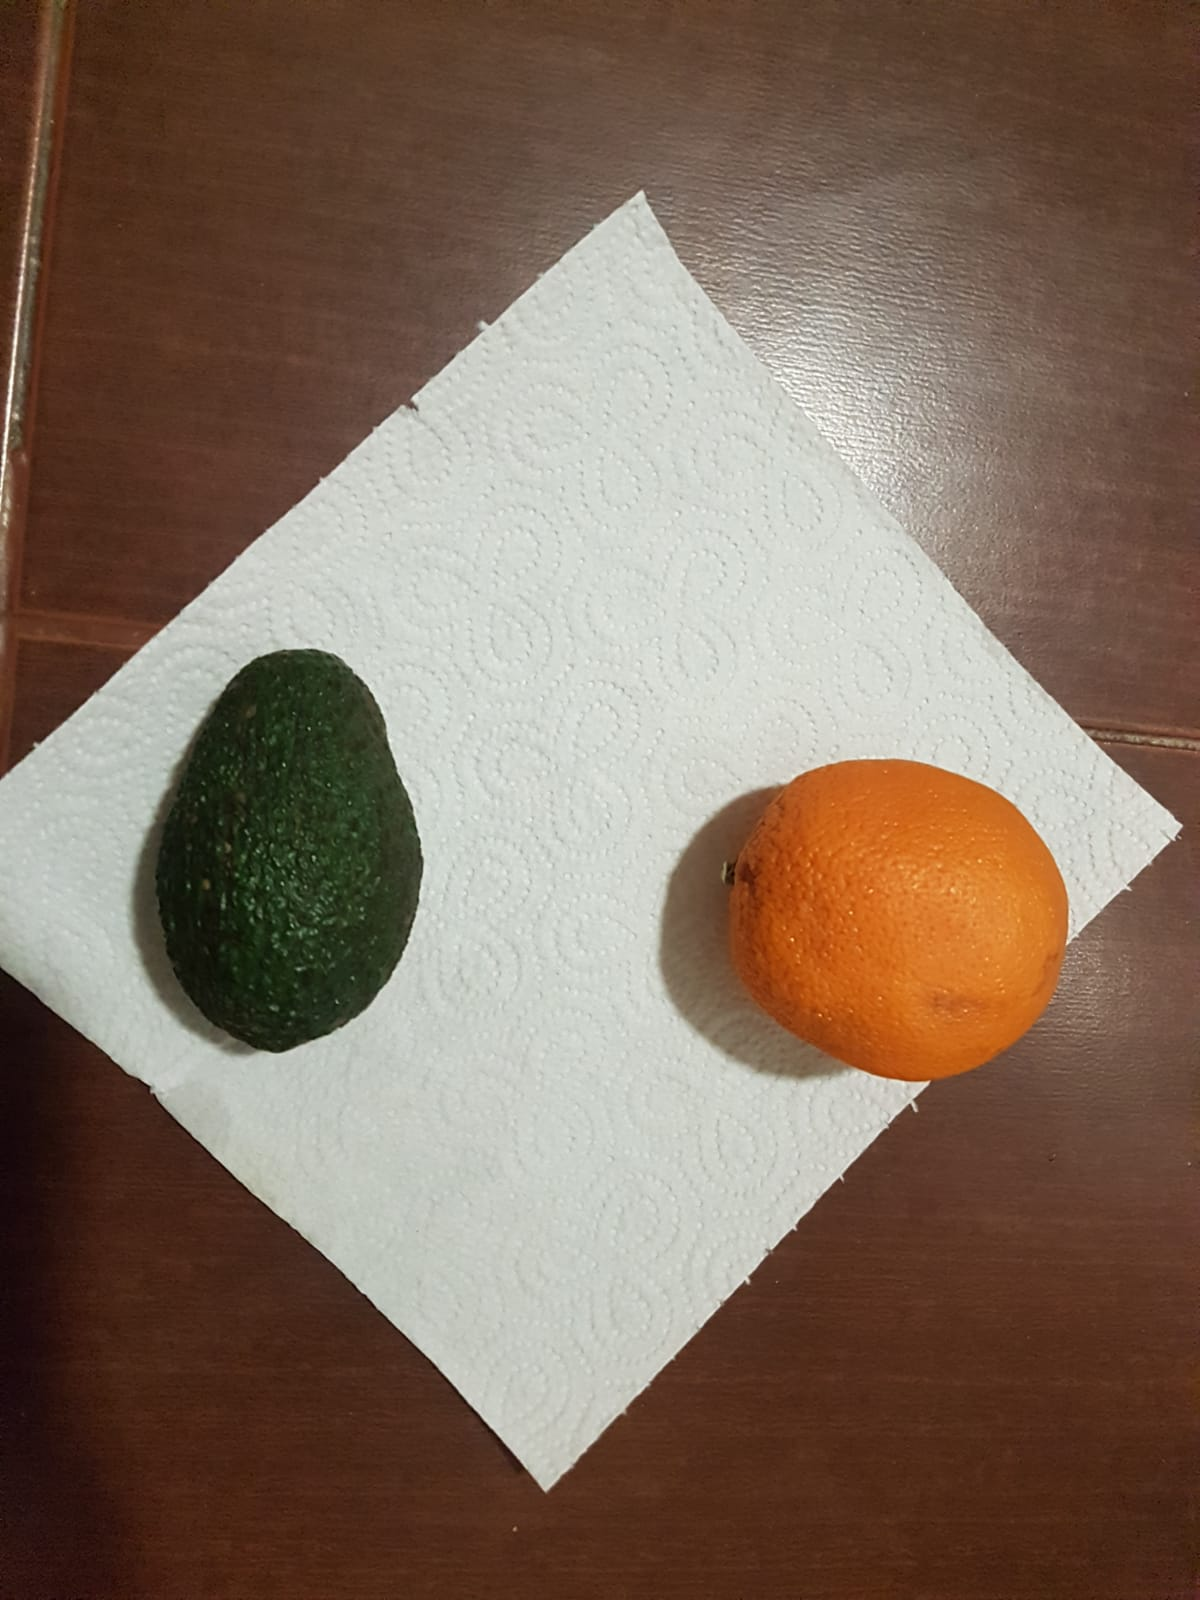Avocado: (158, 645, 424, 1065)
Orange: (730, 756, 1066, 1078)
